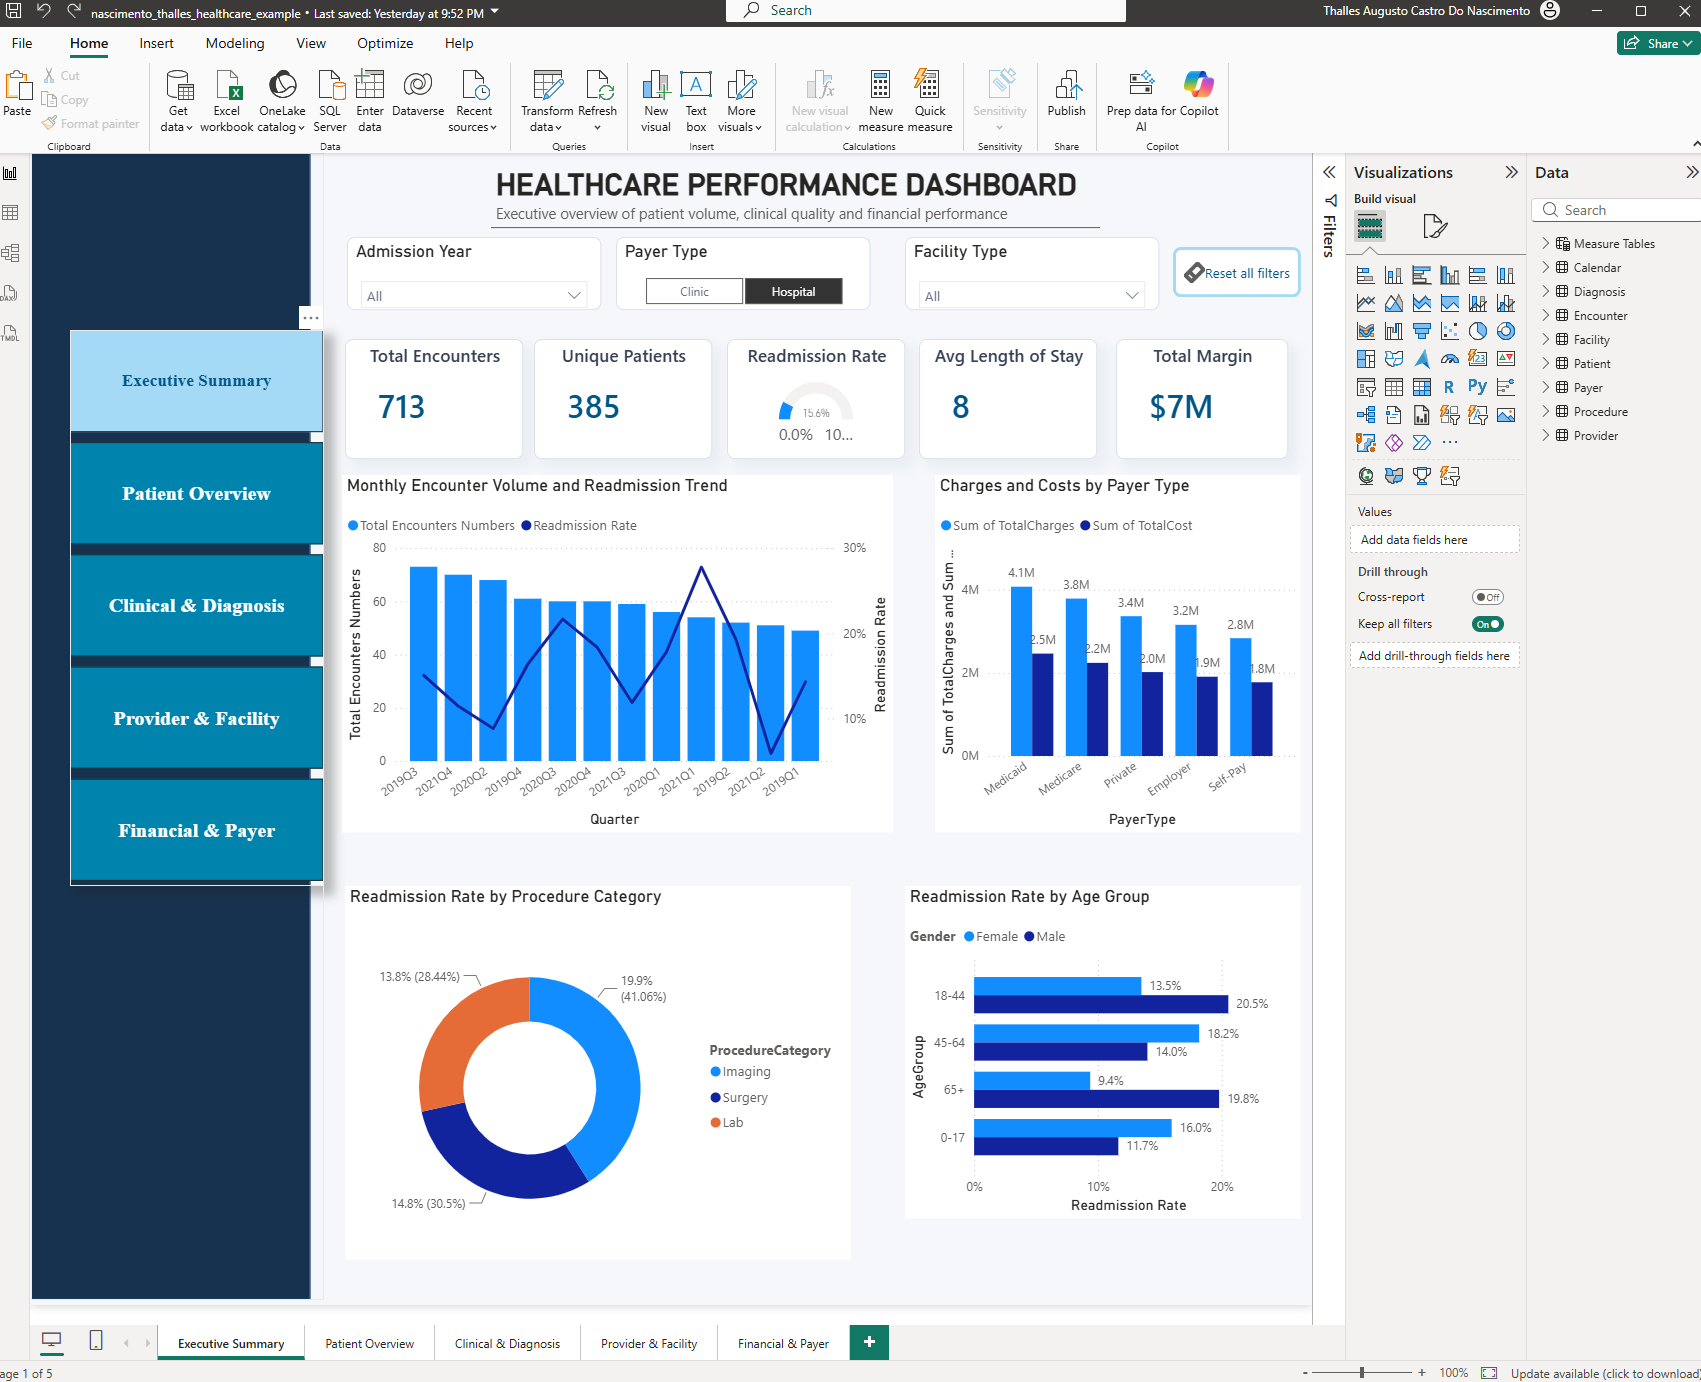

The page's visual inventory and layout, read from the dashboard file:
{"tool":"powerbi","page":{"name":"Executive Summary","canvas":[1280,1150],"ordinal":0},"visuals":[{"type":"shape","box":[1.2,0,278.8,1145],"z":0,"group":"g1"},{"type":"image","box":[1178.8,1063.8,101.2,81.2],"z":0},{"type":"textbox","box":[1.3,667.2,278.5,53.1],"z":1000},{"type":"group","id":"g1","title":"Group 1","box":[1.2,0,292.5,1145],"z":2000},{"type":"pageNavigator","box":[40,176.9,253.8,554.6],"z":2000,"group":"g1"},{"type":"textbox","title":"HEALTHCARE PERFORMANCE DASHBOARD","box":[460,13.8,607.5,68.8],"z":3000},{"type":"actionButton","title":"Reset all filters","box":[1141.7,94.3,127.7,50.2],"z":4000},{"type":"slicer","title":"Facility Type","fields":{"Values":["Provider.Specialty"]},"box":[874.1,83.6,253.9,73],"z":5000},{"type":"slicer","title":"Admission Year","fields":{"Values":["Calendar.Year"]},"box":[316.2,83.6,253.9,73],"z":6000},{"type":"slicer","title":"Payer Type","fields":{"Values":["Facility.FacilityType"]},"box":[585,83.8,253.8,72.5],"z":7000},{"type":"cardVisual","title":"Total Encounters","fields":{"Data":["Measure Tables.Total Encounters"]},"box":[315,185.5,177.9,120.1],"z":8000},{"type":"cardVisual","title":"Avg Length of Stay","fields":{"Data":["Measure Tables.Average Length of Stay"]},"box":[887.8,185.5,177.9,120.1],"z":9000},{"type":"cardVisual","title":"Unique Patients","fields":{"Data":["Measure Tables.Unique Patients"]},"box":[503.2,185.5,177.9,120.1],"z":10000},{"type":"cardVisual","title":"Total Margin","fields":{"Data":["Measure Tables.Total Margin"]},"box":[1083.9,185.5,171.8,120.1],"z":11000},{"type":"gauge","title":"Readmission Rate","fields":{"Y":["Measure Tables.Readmission Rate"]},"box":[696.2,185.5,177.9,120.1],"z":12000},{"type":"lineStackedColumnComboChart","title":"Monthly Encounter Volume and Readmission Trend","fields":{"Category":["Calendar.Quarter"],"Y":["Measure Tables.Total Encounters Numbers"],"Y2":["Measure Tables.Readmission Rate"]},"box":[311.6,321.5,549.5,356.9],"z":13000},{"type":"clusteredBarChart","title":"Readmission Rate by Age Group","fields":{"Category":["Patient.AgeGroup"],"Series":["Patient.Gender"],"Y":["Measure Tables.Readmission Rate"]},"box":[873.3,731.7,395,331.7],"z":14000},{"type":"donutChart","title":"Readmission Rate by Procedure Category","fields":{"Category":["Procedure.ProcedureCategory"],"Y":["Measure Tables.Readmission Rate"]},"box":[315,731.7,505,373.3],"z":15000},{"type":"clusteredColumnChart","title":"Charges and Costs by Payer Type","fields":{"Category":["Payer.PayerType"],"Y":["Sum(Encounter.TotalCharges)","Sum(Encounter.TotalCost)"]},"box":[903.6,321.5,365.4,356.9],"z":16000}]}

Visuals, with their boxes on the page's 1280x1150 design canvas (x1, y1, x2, y2). These are canvas units, not pixel positions in the 1701x1382 screenshot, which may show the page scaled, cropped or inside an application window:
shape: detection(1, 0, 280, 1145)
image: detection(1179, 1064, 1280, 1145)
textbox: detection(1, 667, 280, 720)
"Group 1" group: detection(1, 0, 294, 1145)
pageNavigator: detection(40, 177, 294, 732)
"HEALTHCARE PERFORMANCE DASHBOARD" textbox: detection(460, 14, 1068, 83)
"Reset all filters" actionButton: detection(1142, 94, 1269, 144)
"Facility Type" slicer: detection(874, 84, 1128, 157)
"Admission Year" slicer: detection(316, 84, 570, 157)
"Payer Type" slicer: detection(585, 84, 839, 156)
"Total Encounters" cardVisual: detection(315, 186, 493, 306)
"Avg Length of Stay" cardVisual: detection(888, 186, 1066, 306)
"Unique Patients" cardVisual: detection(503, 186, 681, 306)
"Total Margin" cardVisual: detection(1084, 186, 1256, 306)
"Readmission Rate" gauge: detection(696, 186, 874, 306)
"Monthly Encounter Volume and Readmission Trend" lineStackedColumnComboChart: detection(312, 322, 861, 678)
"Readmission Rate by Age Group" clusteredBarChart: detection(873, 732, 1268, 1063)
"Readmission Rate by Procedure Category" donutChart: detection(315, 732, 820, 1105)
"Charges and Costs by Payer Type" clusteredColumnChart: detection(904, 322, 1269, 678)
